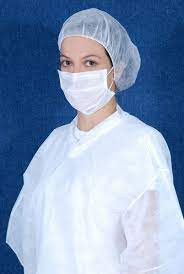with_mask_and_cap: (59, 10, 126, 111)
